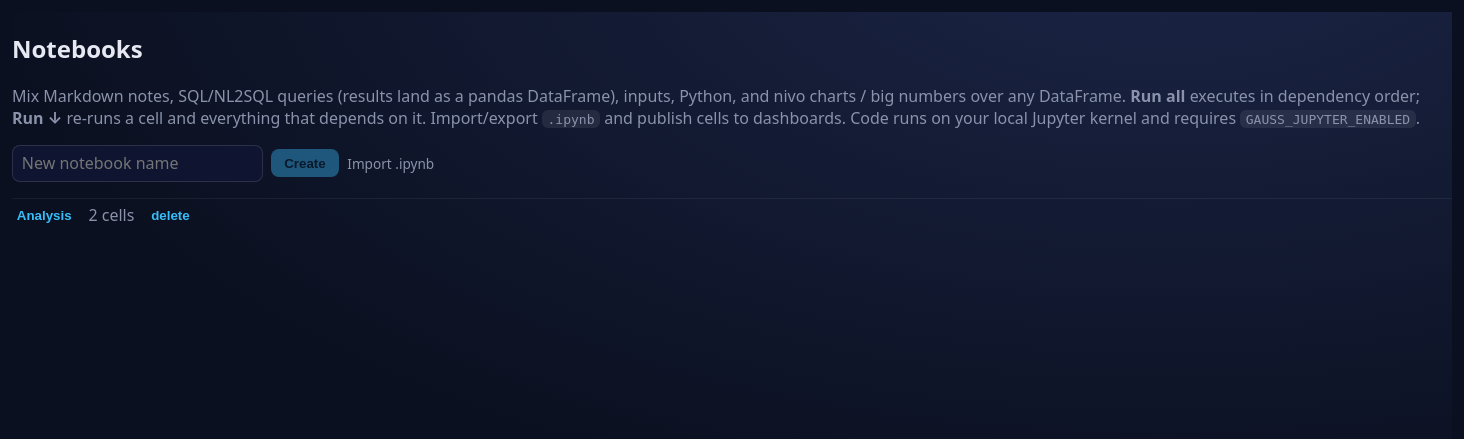
Test: Notebooks › lists notebooks and opens one into a cell editor
The image size is (1464, 439).
Expected: the text "2 cells" is shown, [88, 204, 134, 226]
Click the button "Analysis" at (44, 215), box [12, 204, 76, 226]
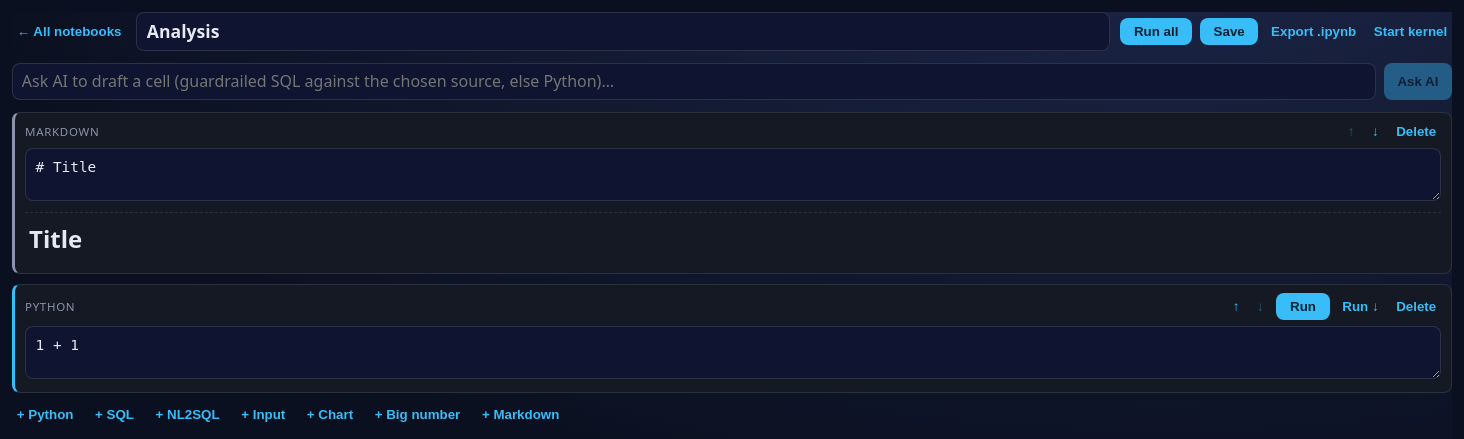
Expected: the button "Run" is shown, [1276, 292, 1330, 320]
Result: the 1st text box showing "# Title" is shown at [25, 148, 1441, 201]
Result: the 2nd text box showing "1 + 1" is shown at [25, 326, 1441, 380]
